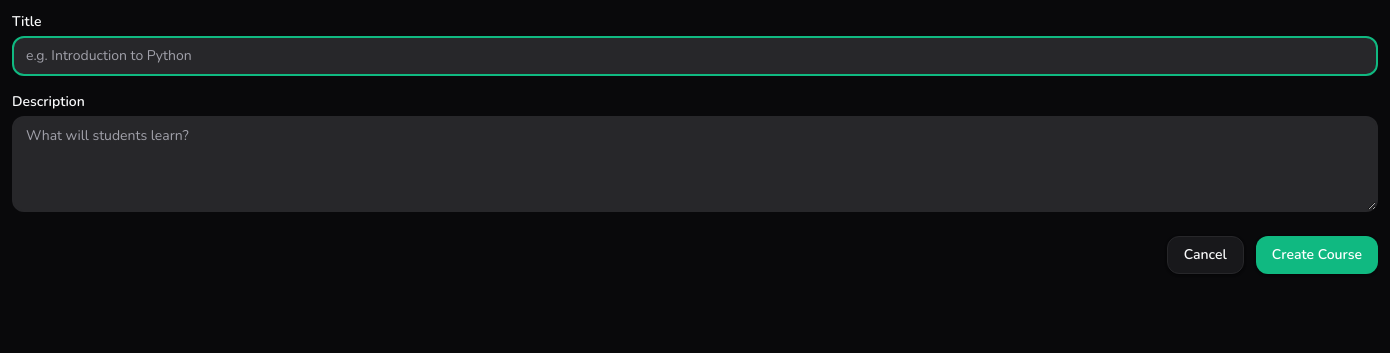
Scenario: CourseForm › shows validation error when form submitted empty
Click the button "Create Course" at (1317, 255), box 1256,236 -> 1378,274
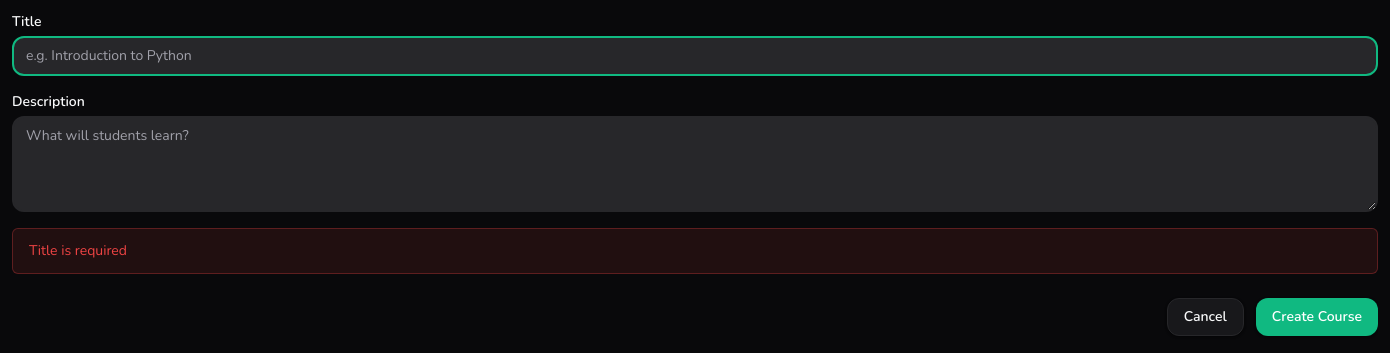
Result: the text "Title is required" is shown at 12,228 -> 1378,274
